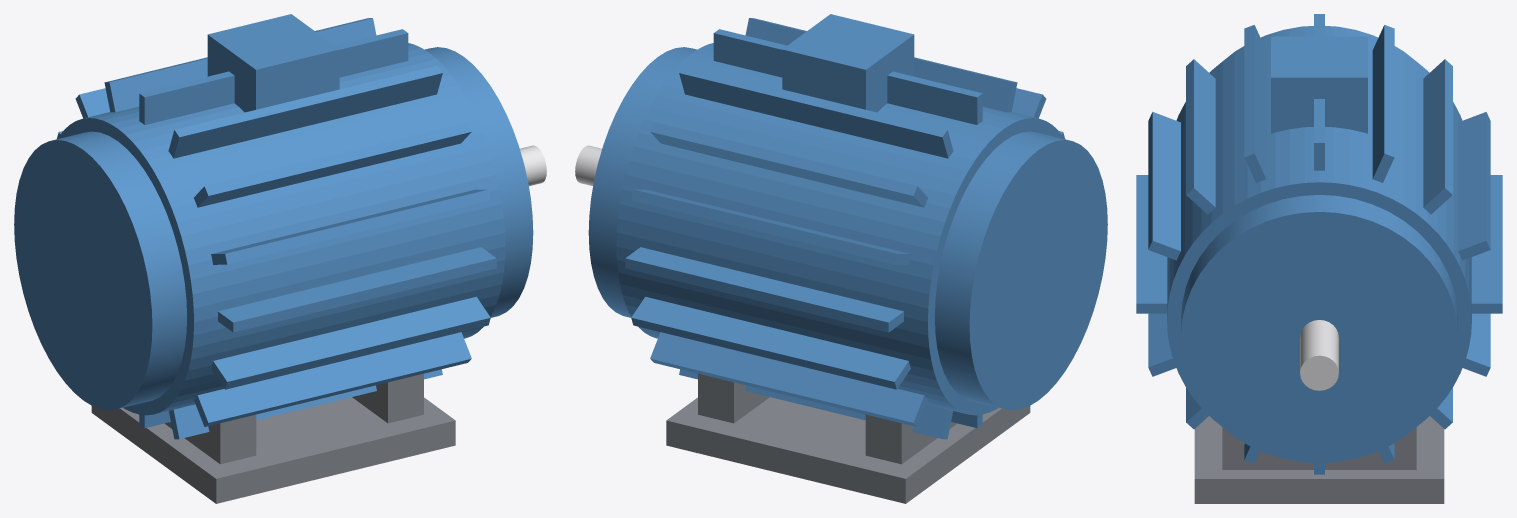
The model's file is motor_electrico.glb.
3 views of the same model, side by side, from view 1: azimuth 30°, elevation 25°; view 2: azimuth 150°, elevation 25°; view 3: azimuth 270°, elevation 25° (orthographic).
Visible parts, largest first — view 1: carcasa, tapa_trasera, base, caja_bornes, tapa_delantera, rotor; view 2: carcasa, tapa_trasera, base, caja_bornes, tapa_delantera, rotor; view 3: carcasa, tapa_delantera, base, caja_bornes, rotor, tapa_trasera.
Boxes of the visible parts, <box> form: carcasa: <box>57,18,505,439</box>; tapa_trasera: <box>14,131,186,410</box>; base: <box>91,373,455,503</box>; caja_bornes: <box>207,14,339,112</box>; tapa_delantera: <box>425,47,533,317</box>; rotor: <box>520,145,546,186</box>; carcasa: <box>616,18,1064,439</box>; tapa_trasera: <box>935,131,1107,410</box>; base: <box>666,373,1030,503</box>; caja_bornes: <box>782,14,914,112</box>; tapa_delantera: <box>588,47,696,317</box>; rotor: <box>575,145,601,186</box>; carcasa: <box>1136,14,1502,474</box>; tapa_delantera: <box>1181,195,1457,462</box>; base: <box>1194,416,1444,503</box>; caja_bornes: <box>1271,36,1367,133</box>; rotor: <box>1300,320,1338,390</box>; tapa_trasera: <box>1225,26,1413,59</box>.
Size of the model in its own units: 1.9 by 1.55 by 1.32.
